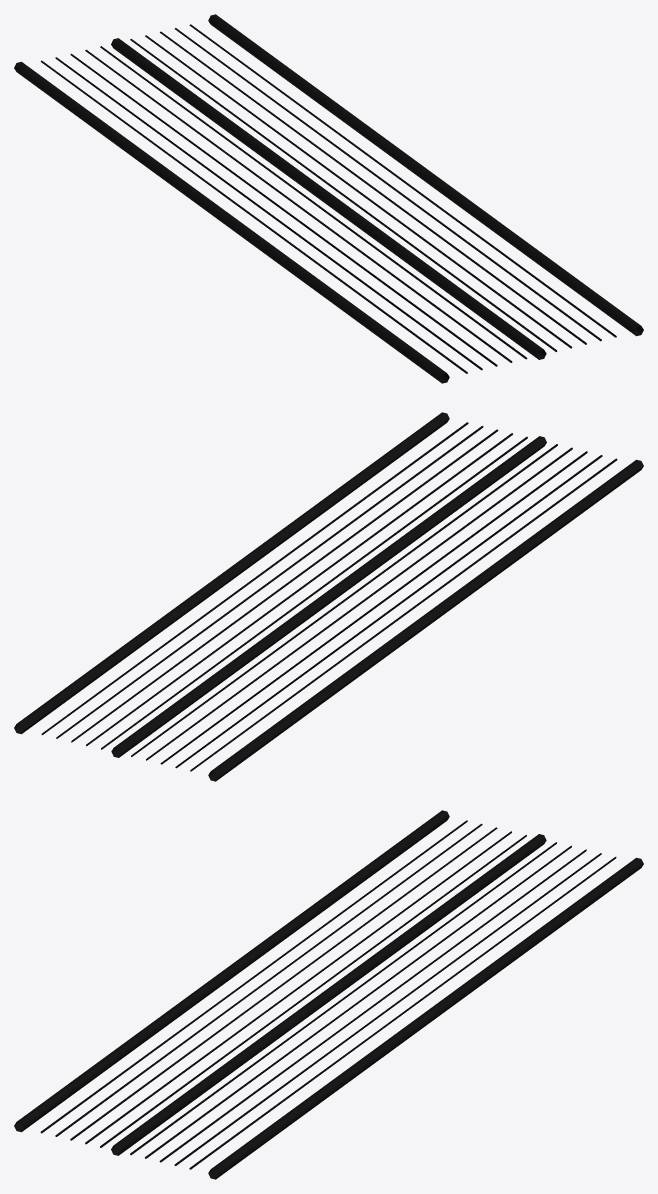
Rendered from cP_Fence03_Straight.dae.
3 views of the same model, one above another, from view 1: azimuth 30°, elevation 25°; view 2: azimuth 150°, elevation 25°; view 3: azimuth 330°, elevation 25° (orthographic).
Visible parts, largest first — view 1: cP_Fence03_Straight.001; view 2: cP_Fence03_Straight.001; view 3: cP_Fence03_Straight.001.
Part boxes in pixels (bbox=[...]): cP_Fence03_Straight.001: bbox=[14, 14, 643, 383]; cP_Fence03_Straight.001: bbox=[14, 412, 643, 781]; cP_Fence03_Straight.001: bbox=[14, 810, 643, 1179].
Size of the model in its own units: 1.11 by 3.99 by 0.0475.
